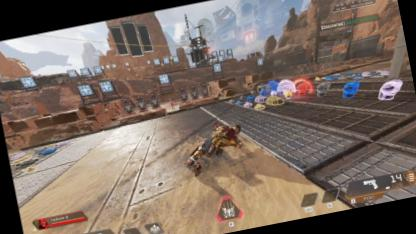Target: (178, 119, 247, 174)
